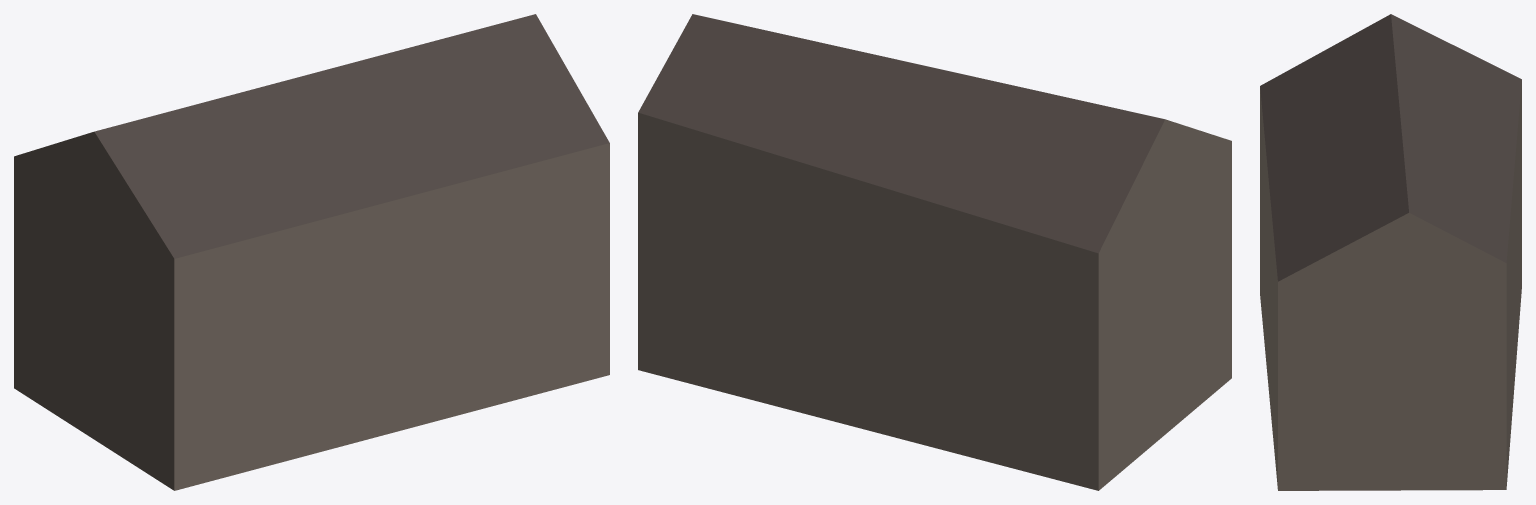
3 views of the same model, side by side, from view 1: azimuth 30°, elevation 25°; view 2: azimuth 150°, elevation 25°; view 3: azimuth 270°, elevation 25° (orthographic). The views are drawn at different scales.
Visible parts, largest first — view 1: HP-w1512914153; view 2: HP-w1512914153; view 3: HP-w1512914153.
Boxes of the visible parts, x1,y1,x2,y2 form: HP-w1512914153: (14, 14, 609, 490); HP-w1512914153: (638, 14, 1231, 490); HP-w1512914153: (1260, 14, 1521, 490).
Bounding box in the file's own units: 12.46 × 7.97 × 6.81.
